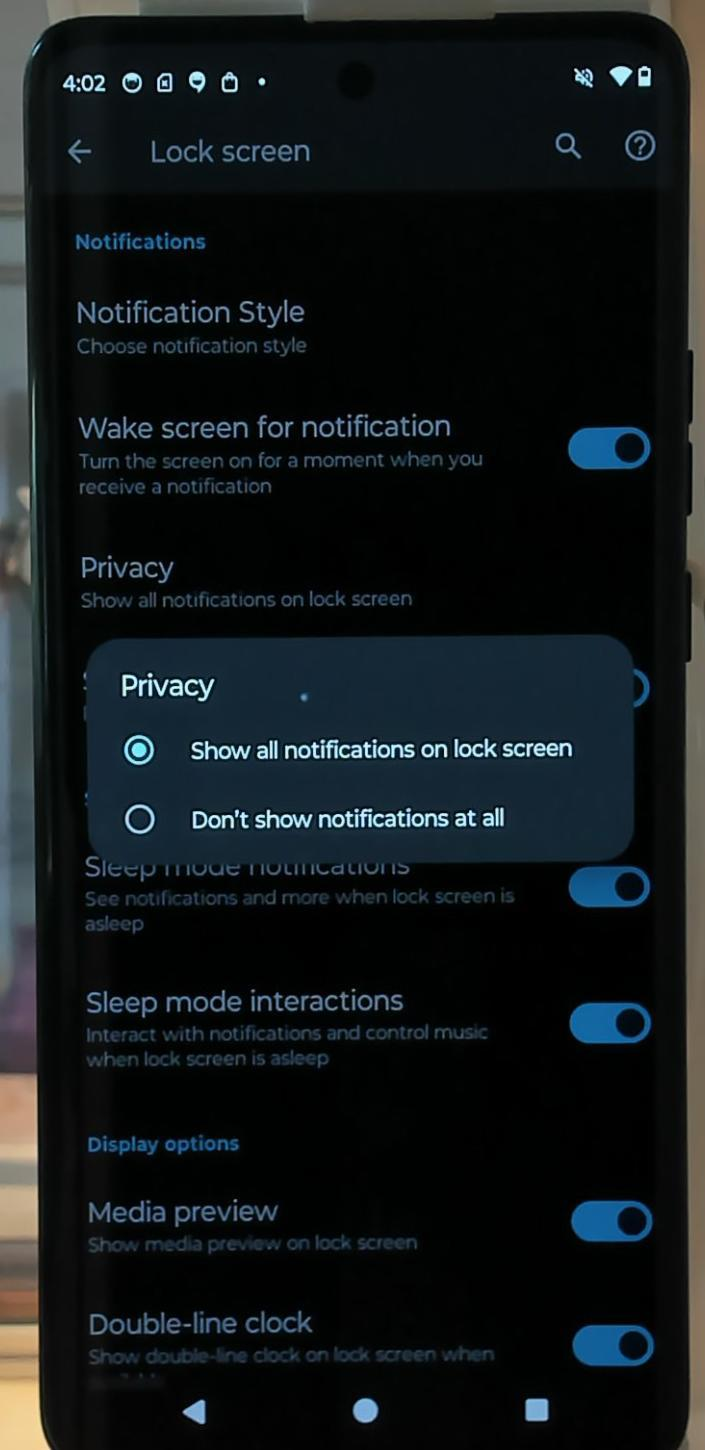RadioButton: (117, 722, 579, 777), (118, 791, 519, 841)
